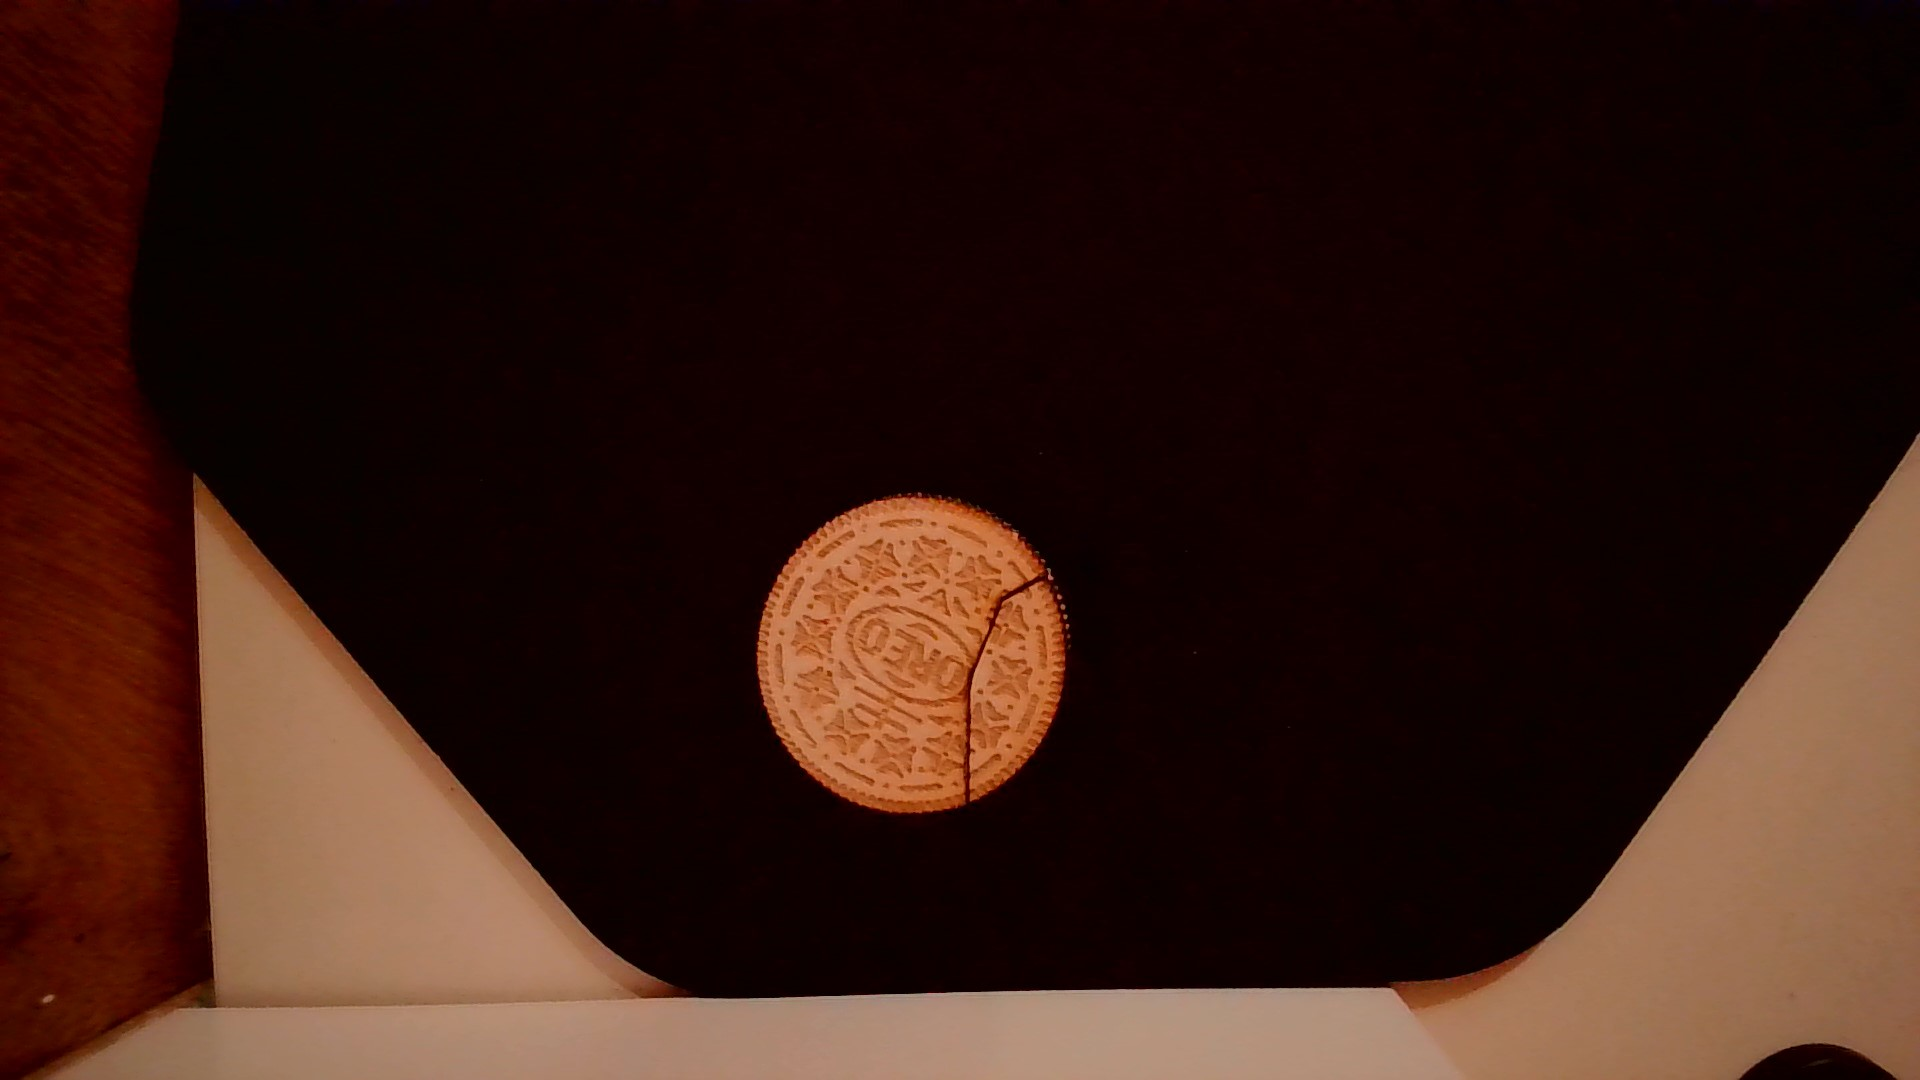Fissure: (952, 562, 1060, 814)
Oréo: (746, 487, 1071, 822)
